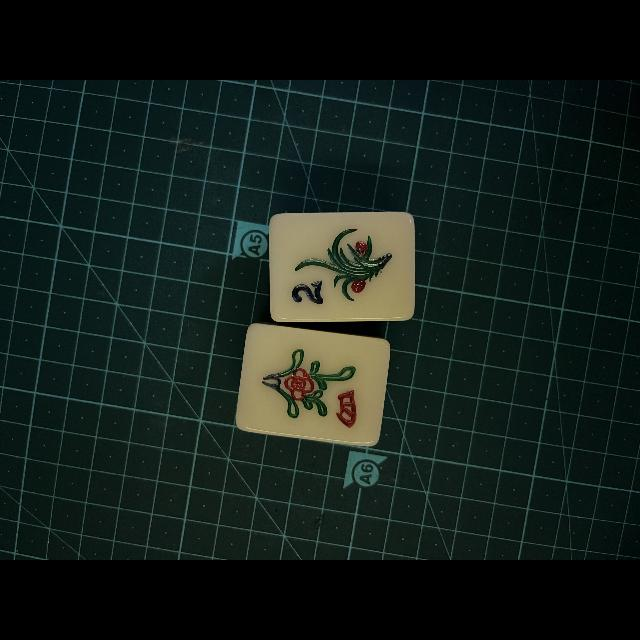f2-s: (272, 216, 412, 318)
s4-s: (242, 327, 384, 439)
